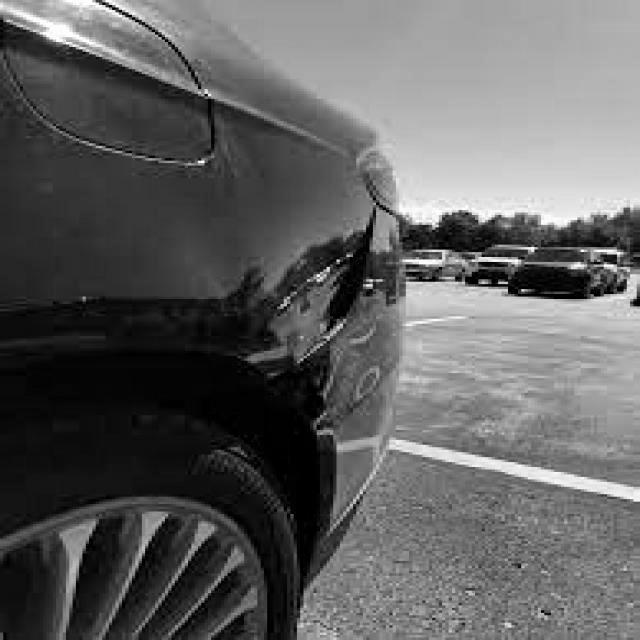quaterpanel-dent: (216, 214, 369, 369)
